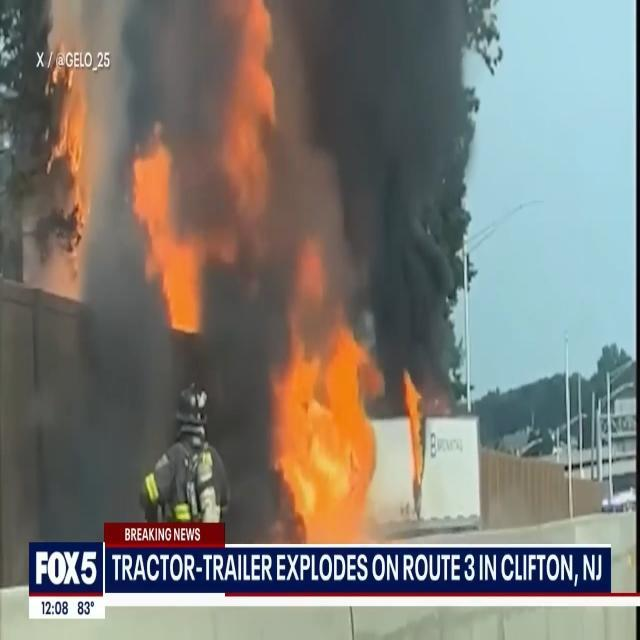fire: (121, 147, 219, 336), (277, 358, 372, 545), (54, 82, 108, 238)
